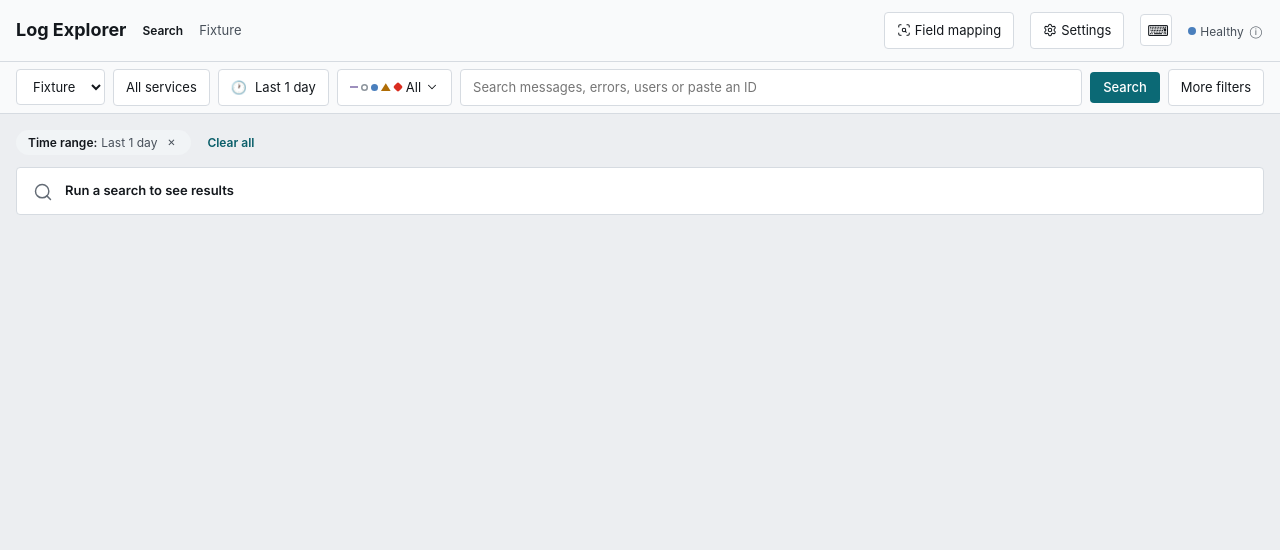
App - Mapping Verification workspace as a dedicated page › opens as a real full-page overlay (replacing the results workspace, not a popover on top of it) and closes back to it
The image size is (1280, 550).
expect the dropdown named "source" shows "Fixture": met, box [16, 69, 105, 105]
expect the text "Run a search to see results" is shown: met, box [65, 182, 234, 198]
Click the button "Field mapping". click: {"x": 949, "y": 30}
box: [884, 12, 1014, 49]
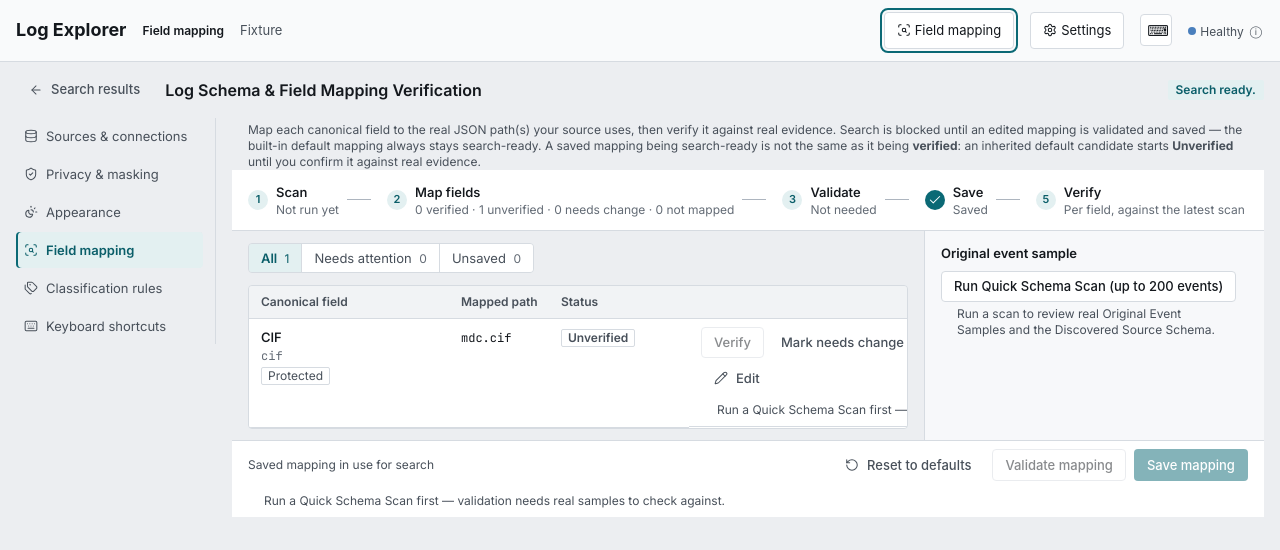
expect the element with test id "field-mapping-workspace" is shown: met
expect the heading "Log Schema & Field Mapping Verification" is shown: met, box [165, 79, 482, 101]
expect the text "CIF" is shown: met, box [261, 329, 282, 345]
Click the button with aria-label "back to search results". click: {"x": 85, "y": 90}
box: [16, 74, 153, 106]
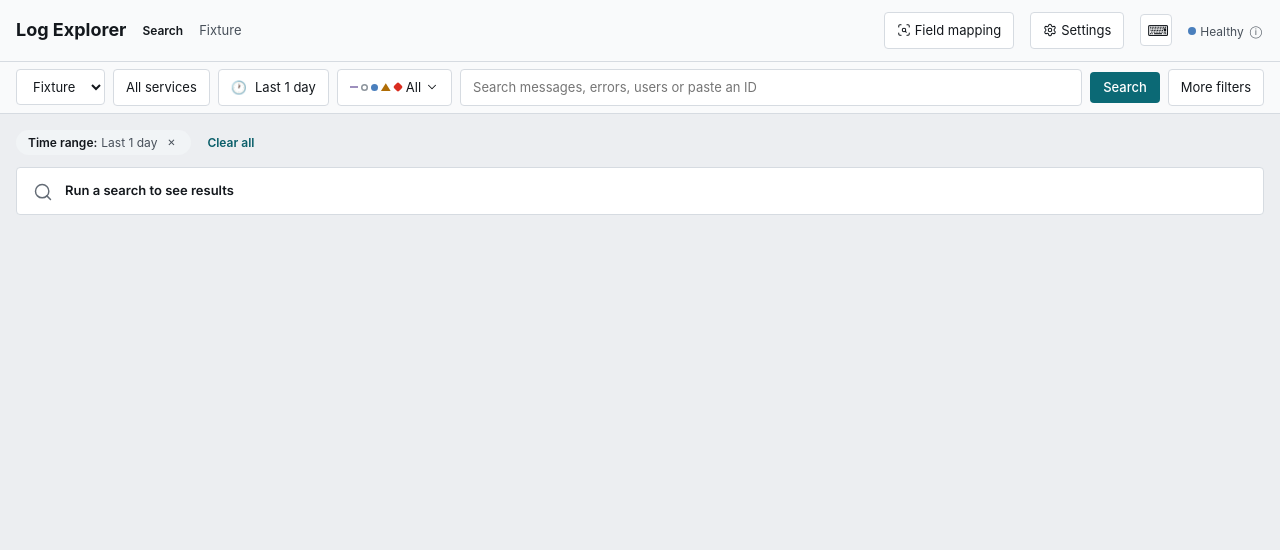
expect the element with test id "field-mapping-workspace" is gone: met
expect the text "Run a search to see results" is shown: met, box [65, 182, 234, 198]
